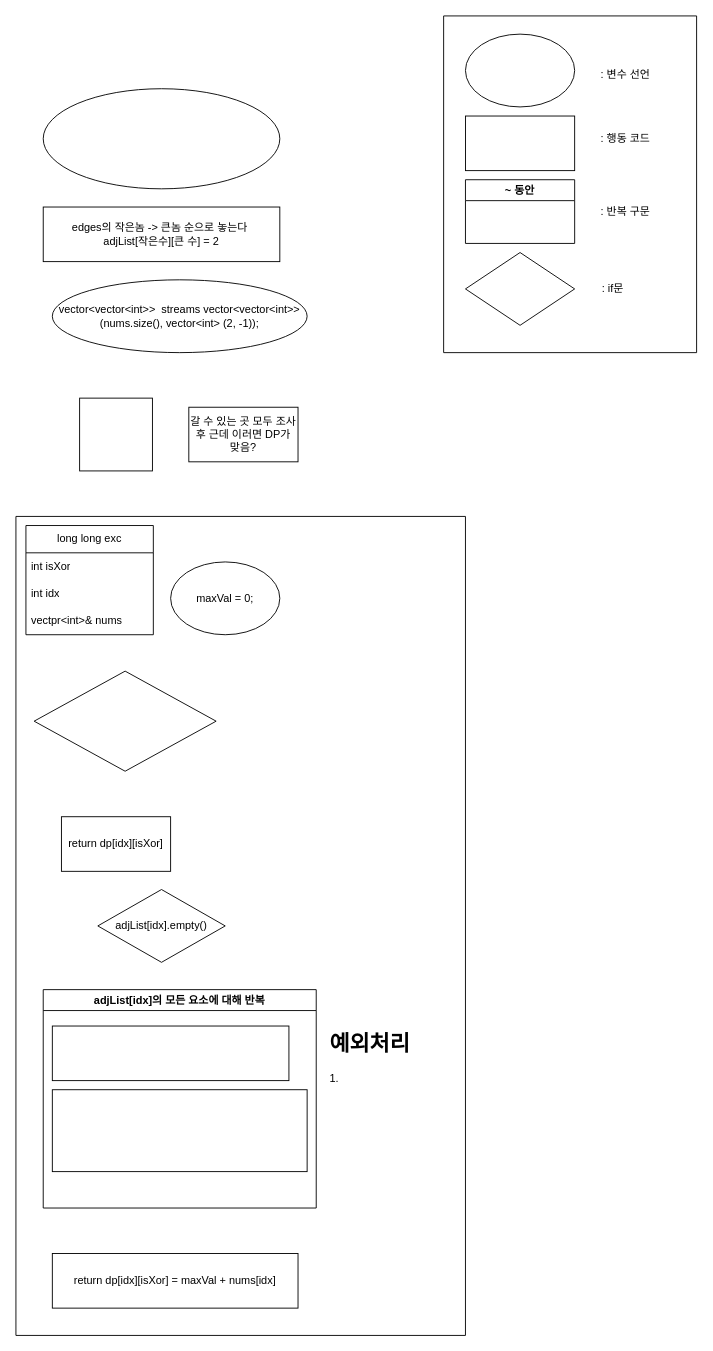
Image size: 713x1351. Some labels were removed from this diagram. The shapes that lost their labels are listed below. From the top down, each one's centre as x and y in pixels, then its label:
At [161,138]: "unordered_map<int, int>[20000] = adjList".
At [115,434]: "내가 지금 더이상 갈 곳이 없다면 isXor에 따라서 리턴".
At [124,720]: "dp[idx][isXor] 이 -1이 아닌가".
At [170,1053]: "# 다음칸에 XOR 했을 때 maxVal = exc(1, idx + 1, nums) + nums[idx] ^ (k ^ isXor)".
At [179,1130]: "# 다음칸에 XOR안 했을 때 maxVal = exc(0, idx + 1, nums) + nums[idx] ^ (k ^ isXor)".
